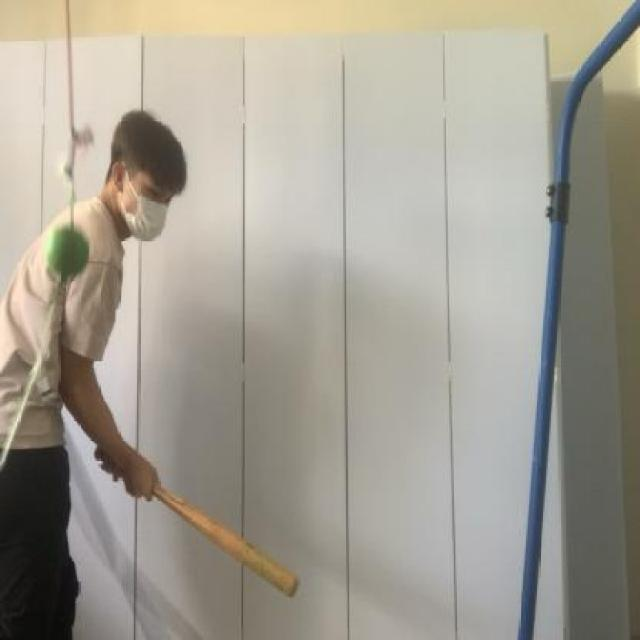baseball: (40, 213, 95, 284)
